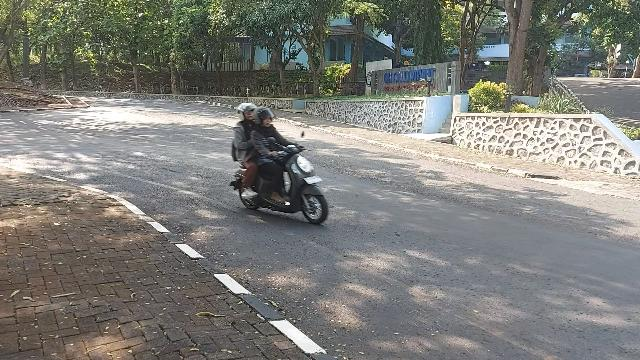helm: (255, 107, 275, 127), (239, 104, 258, 122)
motor: (231, 133, 329, 225)
